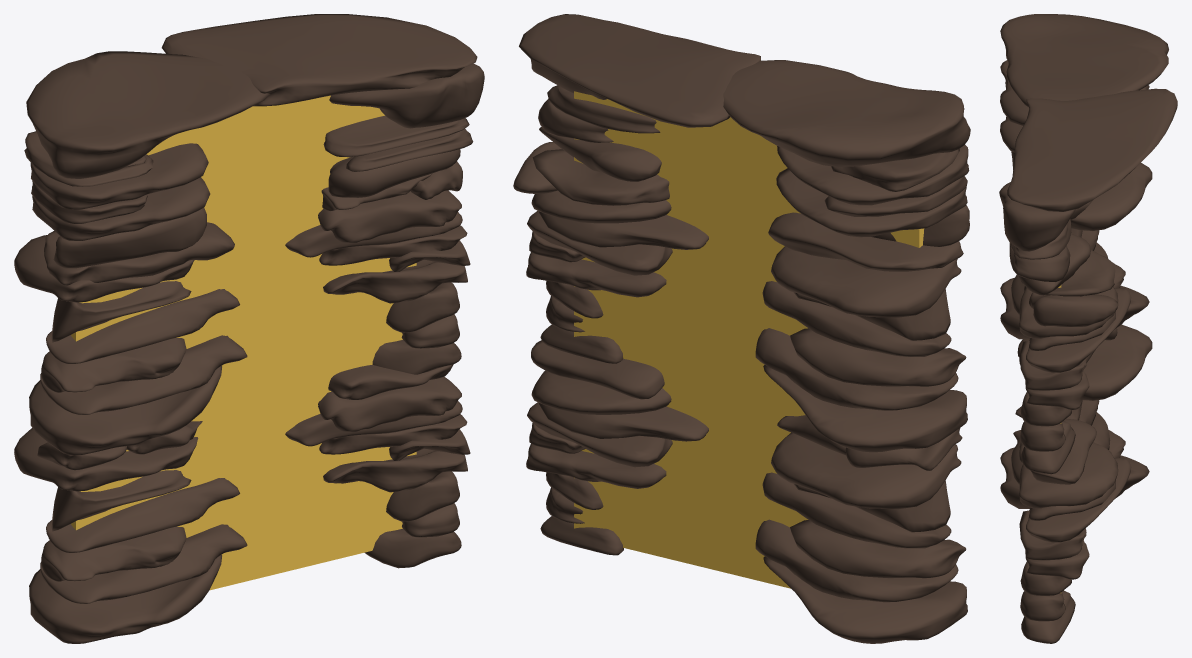
Rendered from door_exit_closed.fbx.
3 renders of one model, left to right at view 1: azimuth 30°, elevation 25°; view 2: azimuth 150°, elevation 25°; view 3: azimuth 270°, elevation 25°, orthographic. The views are drawn at different scales.
Parts seen in each view (by area): view 1: exit.closed; view 2: exit.closed; view 3: exit.closed.
Boxes of the visible parts, left/top/right/bottom form: exit.closed: left=14, top=14, right=484, bottom=643; exit.closed: left=513, top=14, right=970, bottom=643; exit.closed: left=999, top=14, right=1177, bottom=643.
Bounding box in the file's own units: 3.08 × 3.59 × 1.25.
